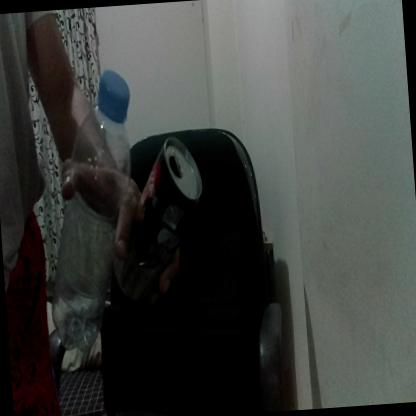alumunium_can: (106, 136, 210, 304)
plastic_bottles: (37, 66, 150, 359)
